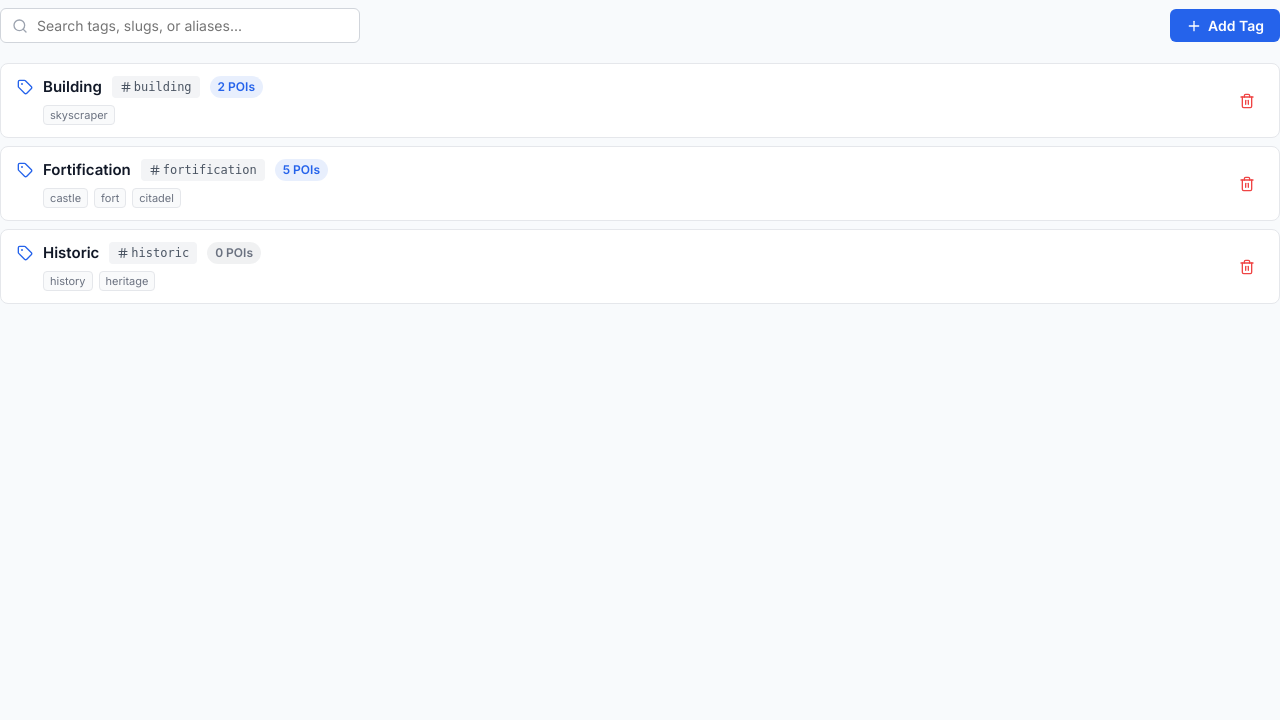
Test: TagManager Component (REQ-EXT-002, REQ-EXT-004, REQ-EXT-005, REQ-EXT-006) › handles deletion conflict modal when tag is referenced by POIs (REQ-EXT-006)
The image size is (1280, 720).
What coordinates should you click on to do the following:
click the button with test id "delete-tag-btn-fortification"
I would click on:
 (1247, 184)
Its box is [1231,168,1263,200].
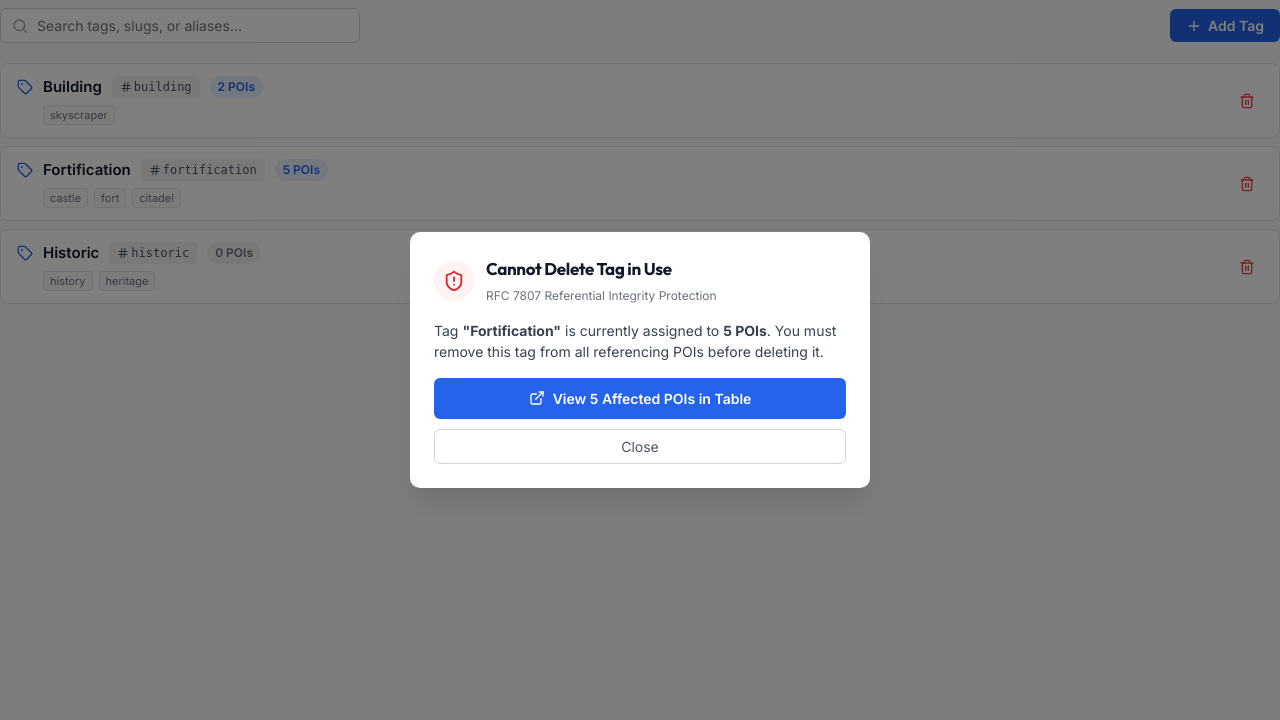
Check: the element with test id "delete-conflict-modal" is shown
Check: the heading "Cannot Delete Tag in Use" is shown, box [486,258,672,279]
Check: the text "5 POIs" is shown, box [723,322,767,339]
